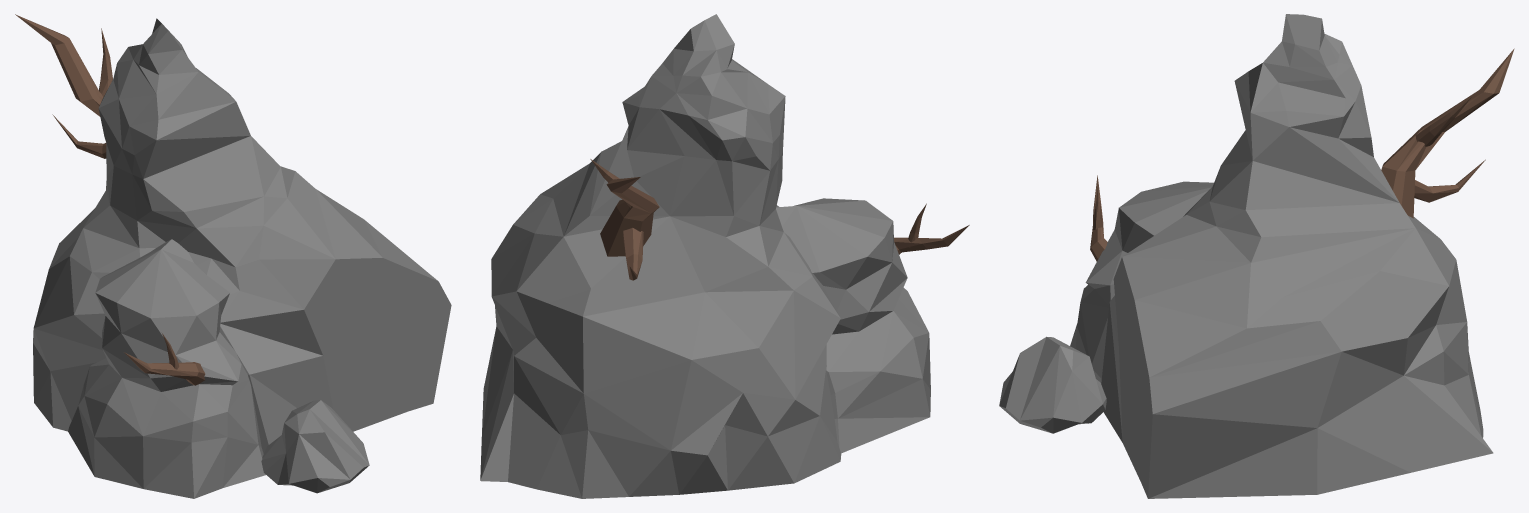
Rendered from _sculptire_9.fbx.
The picture shows the model from 3 angles, left to right: view 1: azimuth 30°, elevation 25°; view 2: azimuth 150°, elevation 25°; view 3: azimuth 270°, elevation 25°; orthographic projection. The views are drawn at different scales.
Parts seen in each view (by area): view 1: sculptire_9; view 2: sculptire_9; view 3: sculptire_9.
Boxes of the visible parts, left/top/right/bottom form: sculptire_9: left=15, top=14, right=451, bottom=498; sculptire_9: left=480, top=14, right=969, bottom=498; sculptire_9: left=999, top=14, right=1514, bottom=498.
Bounding box in the file's own units: 195 × 196 × 238.
